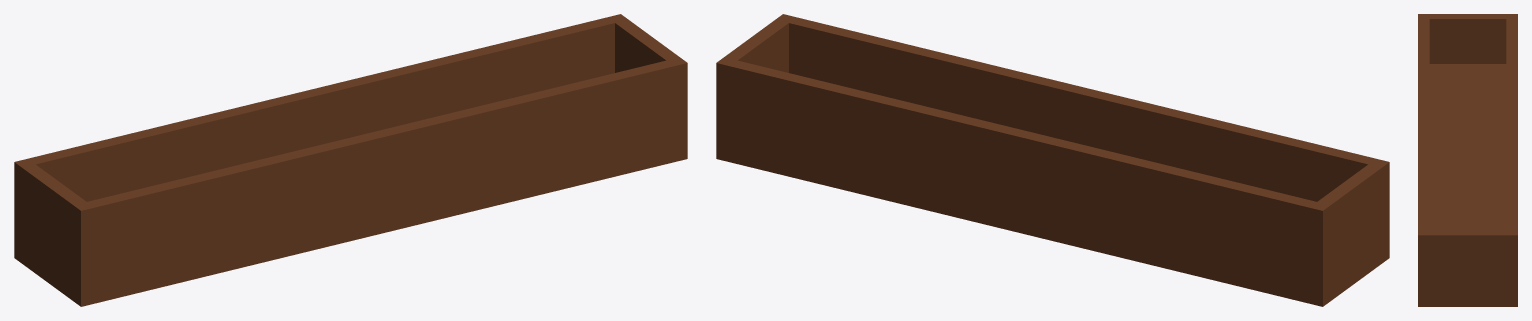
Rendered from Feeding Dish_1.fbx.
3 renders of one model, left to right at view 1: azimuth 30°, elevation 25°; view 2: azimuth 150°, elevation 25°; view 3: azimuth 270°, elevation 25°, orthographic. The views are drawn at different scales.
Parts seen in each view (by area): view 1: Feeding Dish_1; view 2: Feeding Dish_1; view 3: Feeding Dish_1.
Part boxes in pixels (left/top/right/bottom): Feeding Dish_1: left=14, top=14, right=687, bottom=306; Feeding Dish_1: left=716, top=14, right=1389, bottom=306; Feeding Dish_1: left=1418, top=14, right=1517, bottom=306.
Size of the model in its own units: 200 by 30.25 by 38.19.
